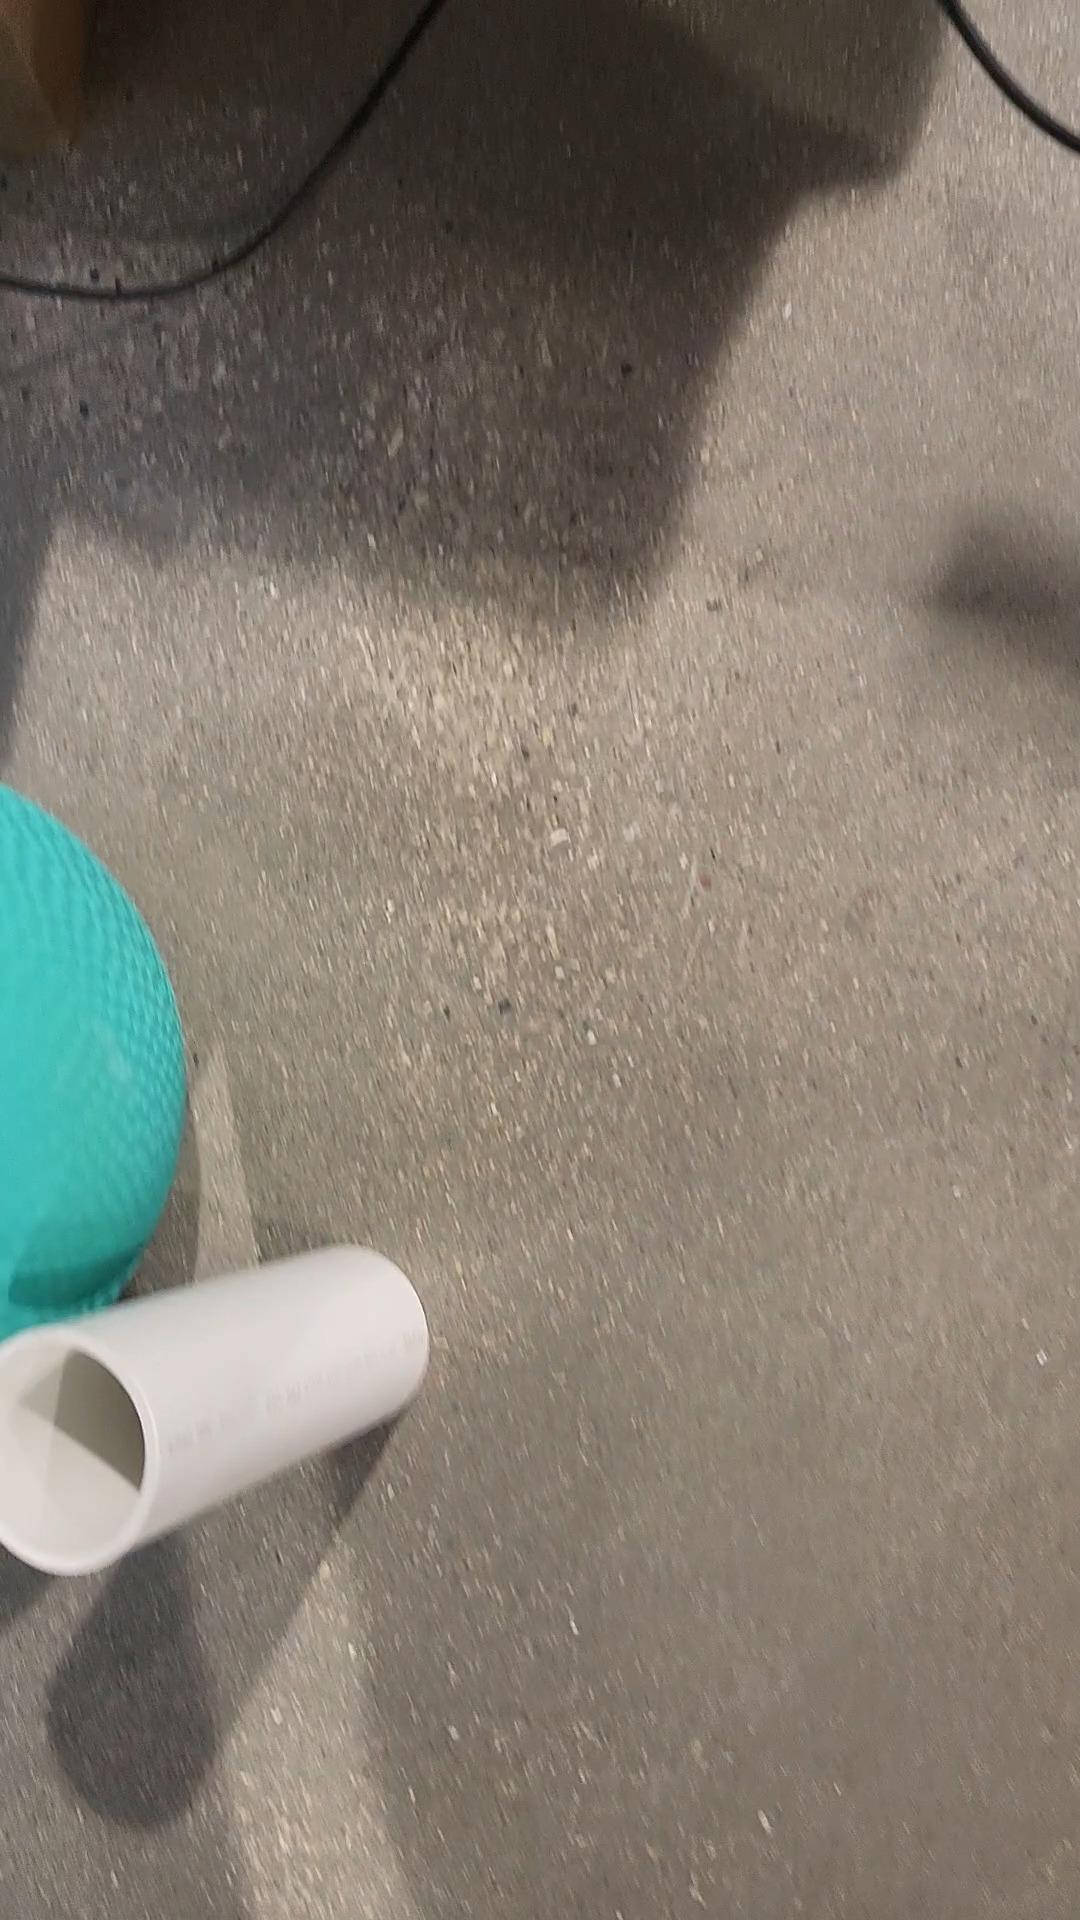algae: (0, 780, 188, 1360)
coral: (0, 1245, 430, 1570)
